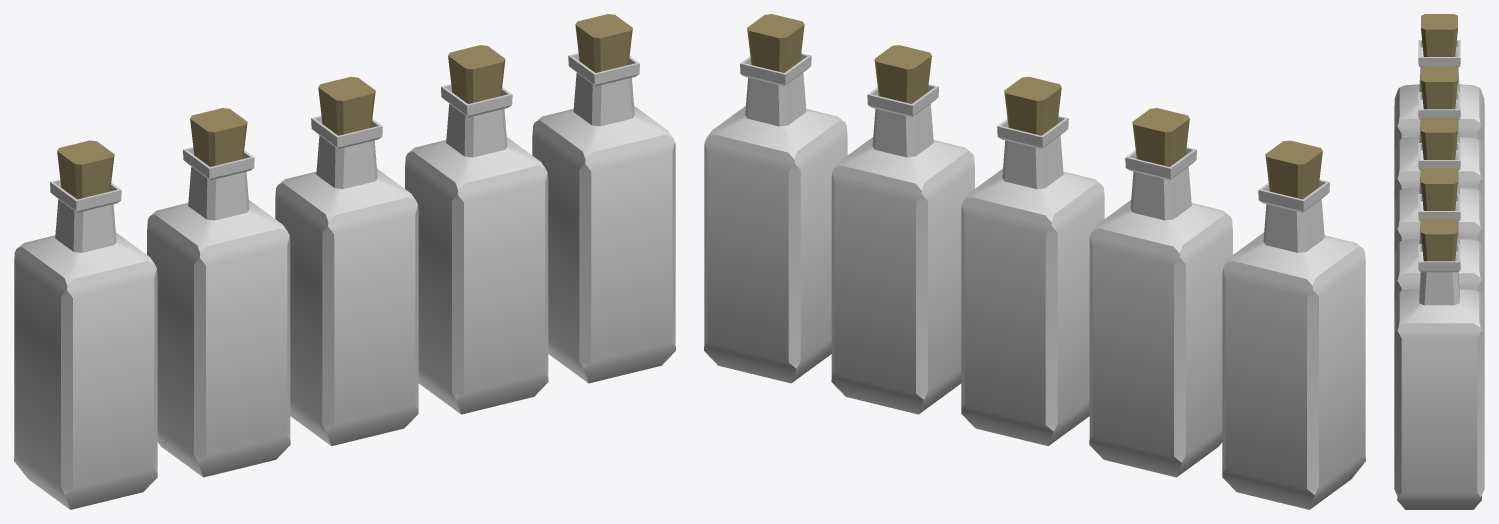
File: BottleForTap.fbx
3 renders of one model, left to right at view 1: azimuth 30°, elevation 25°; view 2: azimuth 150°, elevation 25°; view 3: azimuth 270°, elevation 25°, orthographic. The views are drawn at different scales.
Parts seen in each view (by area): view 1: Bottle.002, Bottle.003, Bottle.005, Bottle.004, Bottle.006, Cork.006, Cork.004, Cork.005, Cork.002, Cork.003; view 2: Bottle.002, Bottle.003, Bottle.005, Bottle.004, Bottle.006, Cork.006, Cork.004, Cork.005, Cork.002, Cork.003; view 3: Bottle.006, Bottle.002, Bottle.004, Bottle.003, Bottle.005, Cork.003, Cork.006, Cork.004, Cork.002, Cork.005.
Part boxes in pixels (x1,y1,x2,y2): Bottle.002: (14,179,157,509); Bottle.003: (147,147,290,477); Bottle.005: (405,84,548,414); Bottle.004: (275,115,418,446); Bottle.006: (532,53,675,383); Cork.006: (575,14,632,72); Cork.004: (318,76,375,135); Cork.005: (448,45,505,103); Cork.002: (57,140,114,199); Cork.003: (190,108,247,166); Bottle.002: (1222,179,1365,509); Bottle.003: (1089,147,1232,477); Bottle.005: (831,84,974,414); Bottle.004: (961,115,1104,446); Bottle.006: (704,53,847,383); Cork.006: (747,14,804,72); Cork.004: (1004,76,1061,135); Cork.005: (874,45,931,103); Cork.002: (1265,140,1322,199); Cork.003: (1132,108,1189,166); Bottle.006: (1394,244,1484,509); Bottle.002: (1394,40,1484,156); Bottle.004: (1394,143,1484,258); Bottle.003: (1394,92,1484,207); Bottle.005: (1394,194,1484,308); Cork.003: (1421,66,1457,109); Cork.006: (1421,218,1457,261); Cork.004: (1421,117,1457,159); Cork.002: (1421,14,1457,56); Cork.005: (1421,168,1457,210).
Size of the model in its own units: 165 by 85.29 by 25.86.
